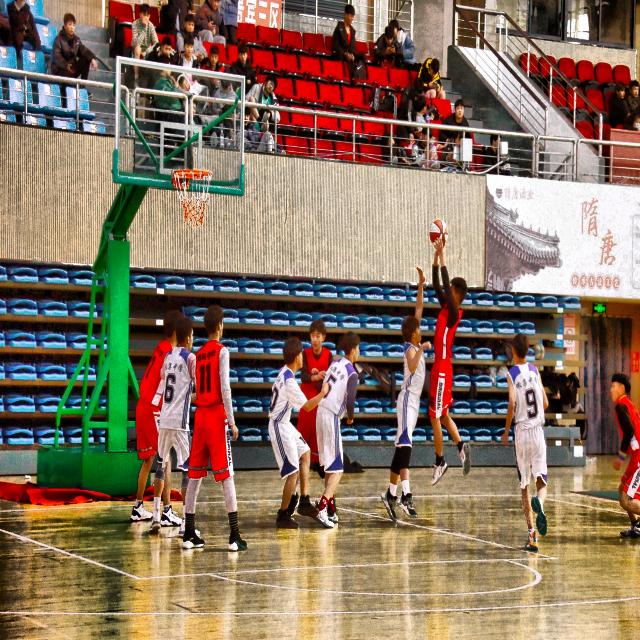board: (426, 216, 452, 255)
rim: (173, 168, 213, 226)
